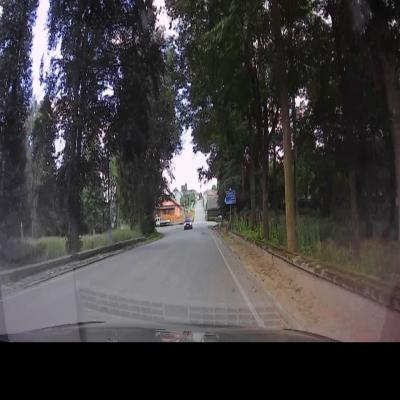clear-road: (77, 226, 231, 300)
